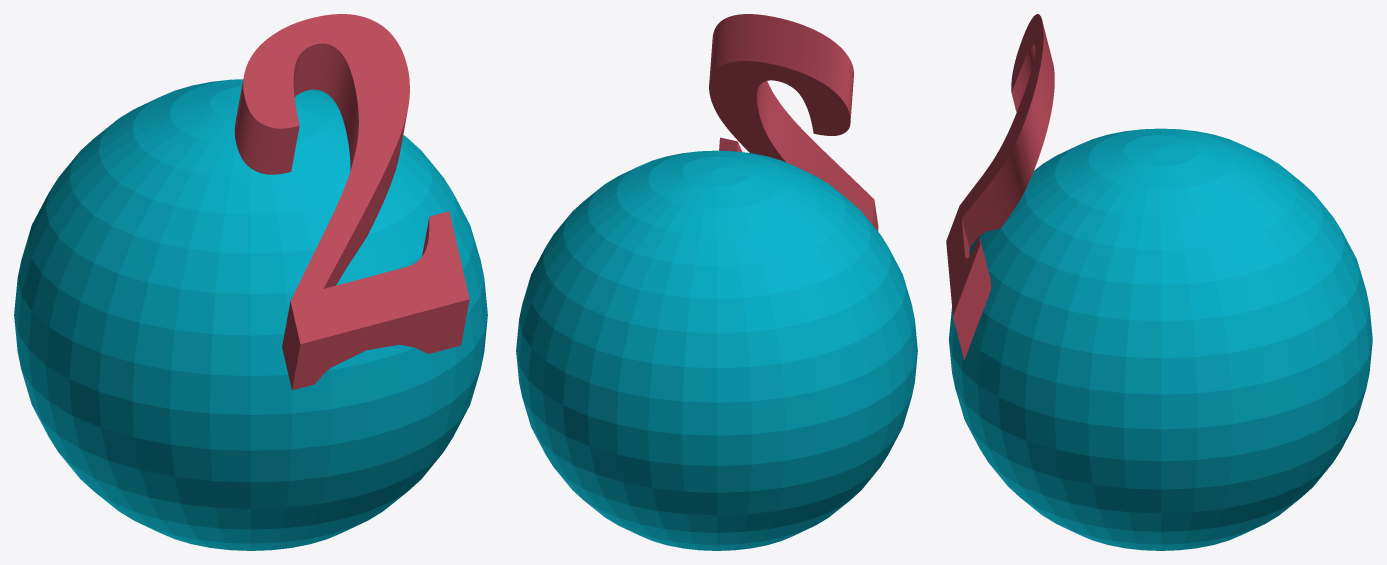
The model's file is number_2.glb.
3 renders of one model, left to right at view 1: azimuth 30°, elevation 25°; view 2: azimuth 150°, elevation 25°; view 3: azimuth 270°, elevation 25°, orthographic. The views are drawn at different scales.
Parts seen in each view (by area): view 1: Mesh_Mesh_head_geo.001_lambert2SG.001; view 2: Mesh_Mesh_head_geo.001_lambert2SG.001; view 3: Mesh_Mesh_head_geo.001_lambert2SG.001.
Part boxes in pixels (bbox=[...]): Mesh_Mesh_head_geo.001_lambert2SG.001: bbox=[14, 14, 487, 550]; Mesh_Mesh_head_geo.001_lambert2SG.001: bbox=[516, 14, 917, 550]; Mesh_Mesh_head_geo.001_lambert2SG.001: bbox=[946, 14, 1372, 550].
Size of the model in its own units: 20 by 26.12 by 20.13.
